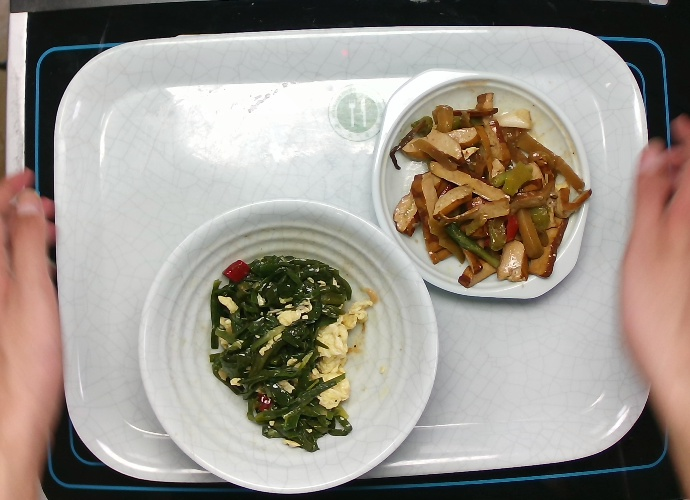JYsf-Shuang_Er_Pan: (365, 63, 593, 305)
JYsf-Xiao_Tang_Wan: (133, 194, 443, 499)
